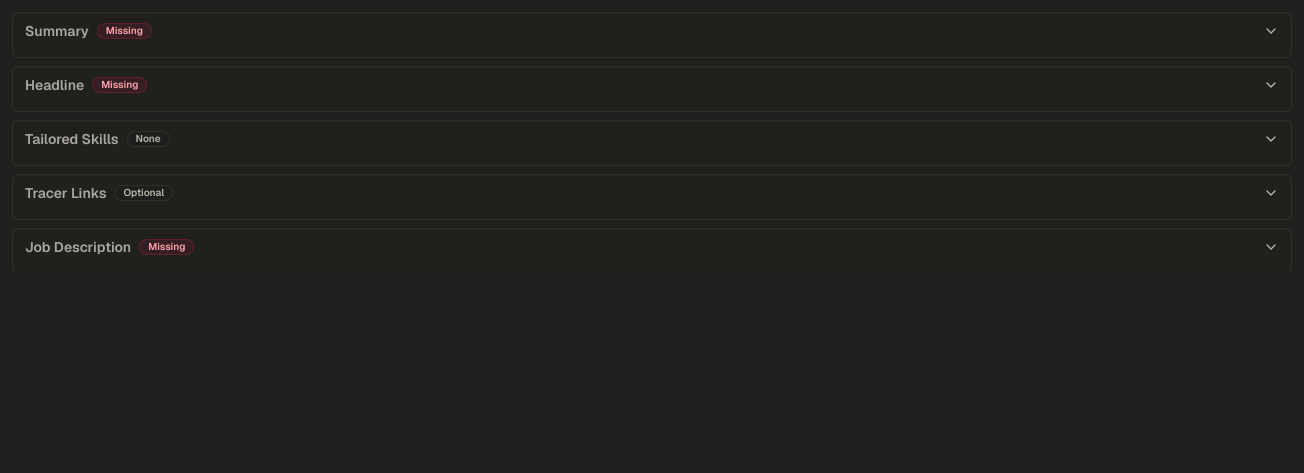
Test: TailoringSections summary field › shows zero words for an empty summary
Click the button "Summary Missing" at [57, 31], box top-left (13, 13), bottom-right (1291, 57)
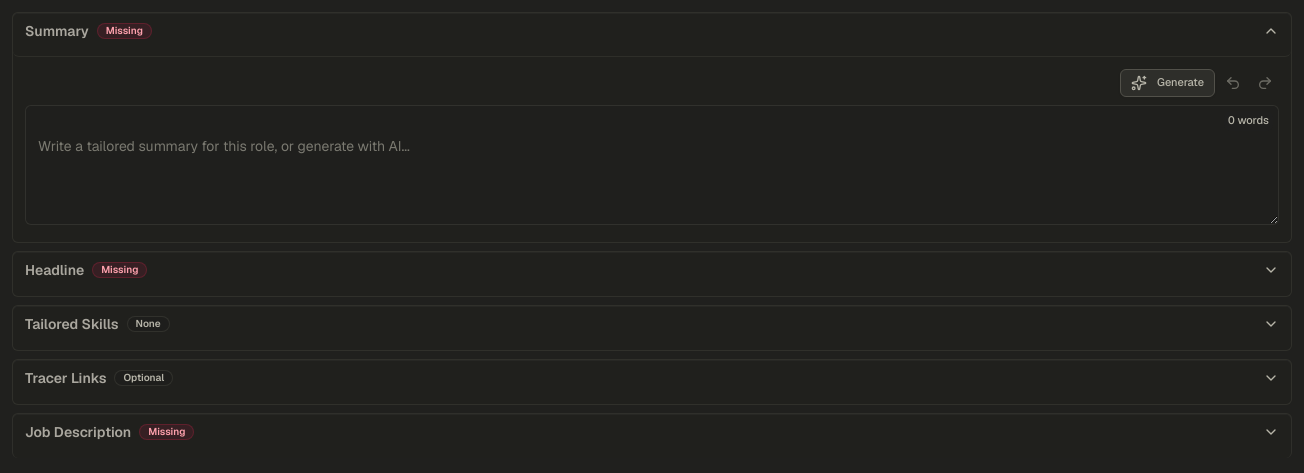
Now the button "0 words" is shown, box top-left (1224, 111), bottom-right (1273, 131)
